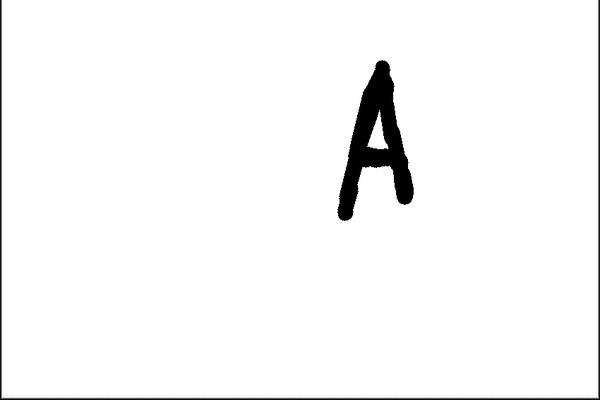A: (330, 57, 430, 233)
